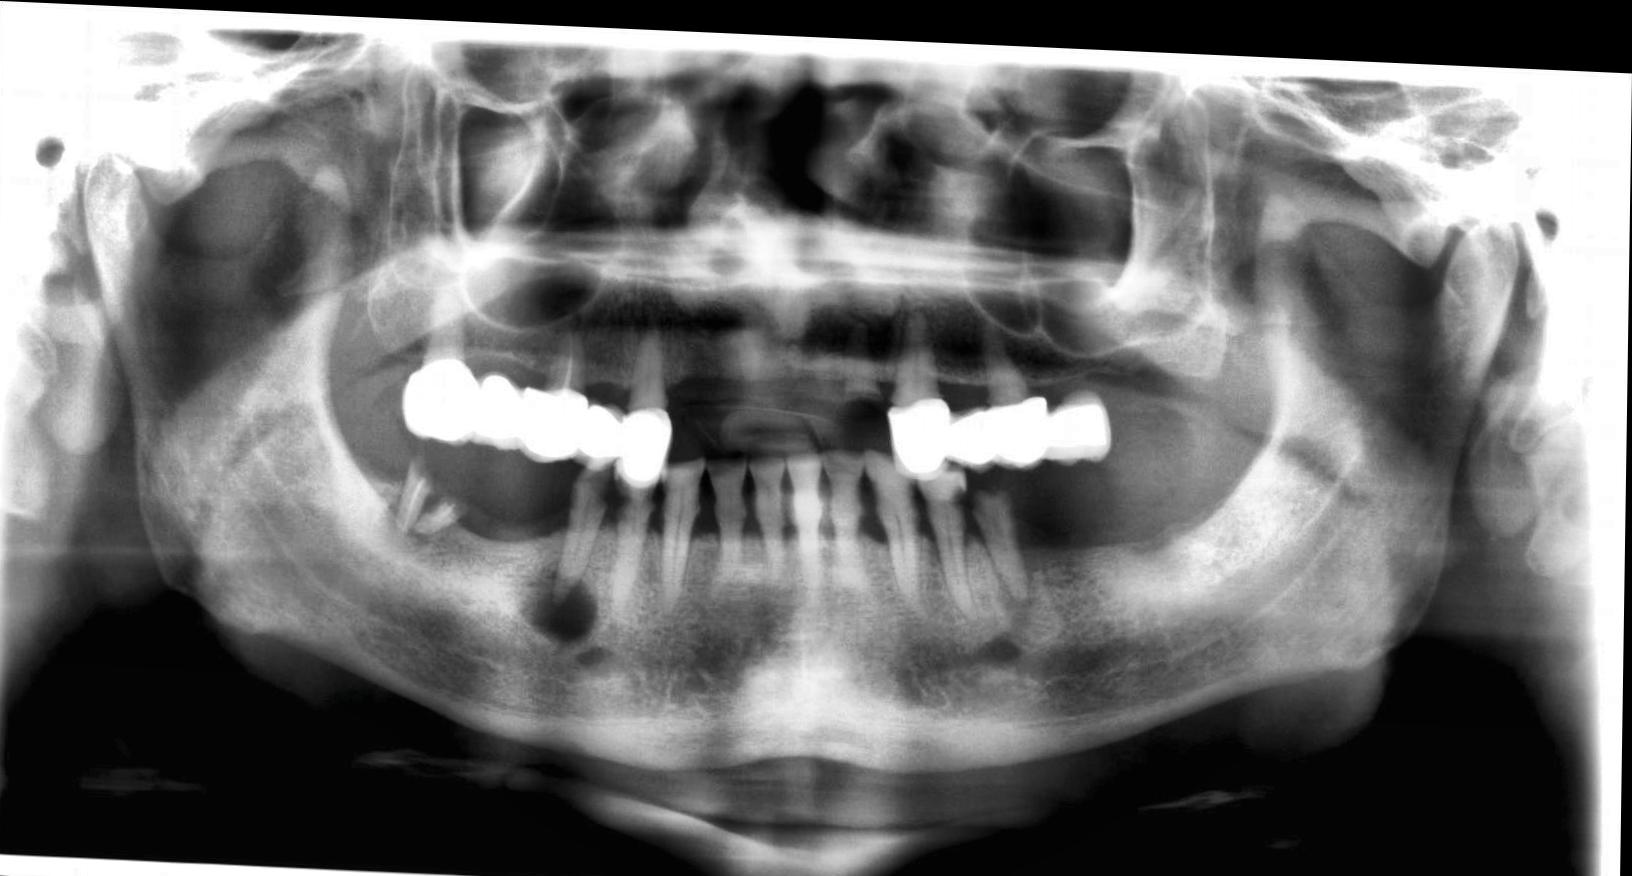radikuler: (521, 560, 601, 642), (371, 484, 448, 555)
